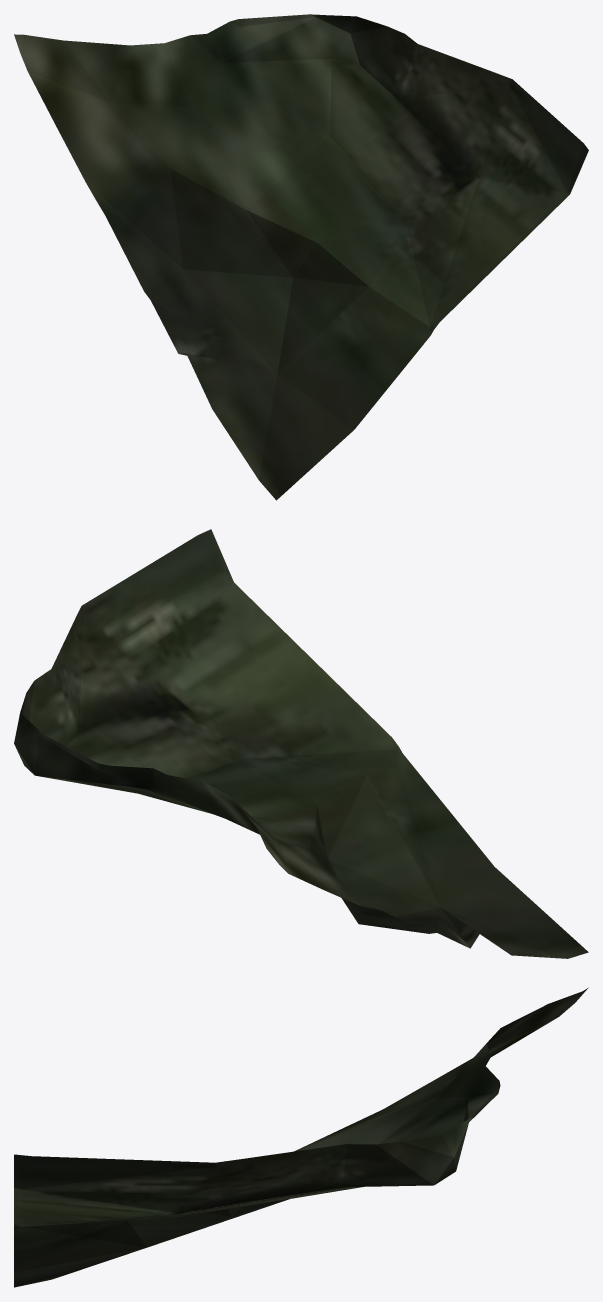
3 renders of one model, top to bottom at view 1: azimuth 30°, elevation 25°; view 2: azimuth 150°, elevation 25°; view 3: azimuth 270°, elevation 25°, orthographic. The views are drawn at different scales.
Size of the model in its own units: 0.4093 by 0.3268 by 0.5672.
Materials: 1 (1 with a texture image).
